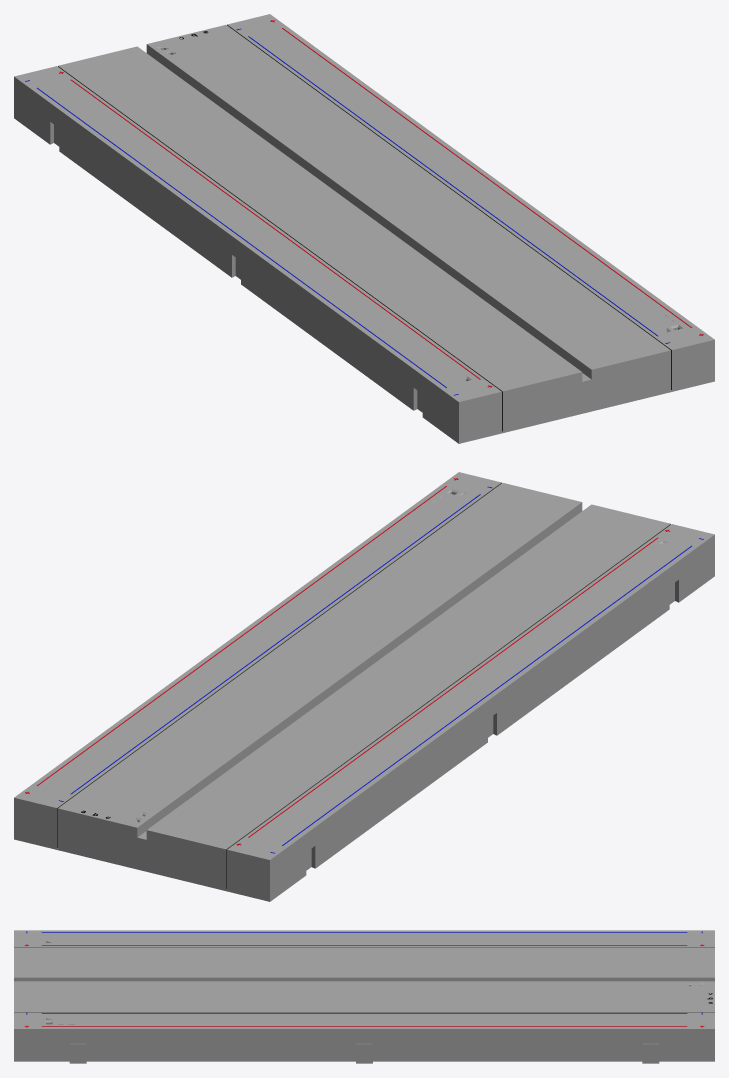
Rendered from protoboard_prueba.fbx.
The picture shows the model from 3 angles, top to bottom: view 1: azimuth 30°, elevation 25°; view 2: azimuth 150°, elevation 25°; view 3: azimuth 270°, elevation 25°; orthographic projection. The views are drawn at different scales.
Visible parts, largest first — view 1: Protoboard, Linea_1+, Linea_2-, Linea_1-, Linea_2+; view 2: Protoboard, Linea_1+, Linea_2-, Linea_1-, Linea_2+; view 3: Protoboard, Linea_1+, Linea_1-, Linea_2+, Linea_2-.
Part boxes in pixels (<box>): Protoboard: <box>14,14,714,443</box>; Linea_1+: <box>70,79,480,379</box>; Linea_2-: <box>248,36,658,336</box>; Linea_1-: <box>37,87,446,387</box>; Linea_2+: <box>282,28,691,327</box>; Protoboard: <box>14,472,714,901</box>; Linea_1+: <box>248,537,658,837</box>; Linea_2-: <box>70,494,480,794</box>; Linea_1-: <box>282,545,691,845</box>; Linea_2+: <box>37,486,446,785</box>; Protoboard: <box>14,930,714,1063</box>; Linea_1+: <box>41,945,687,945</box>; Linea_1-: <box>41,932,687,932</box>; Linea_2+: <box>41,1026,687,1026</box>; Linea_2-: <box>41,1013,687,1013</box>.
Size of the model in its own units: 555 by 85.5 by 1640.
